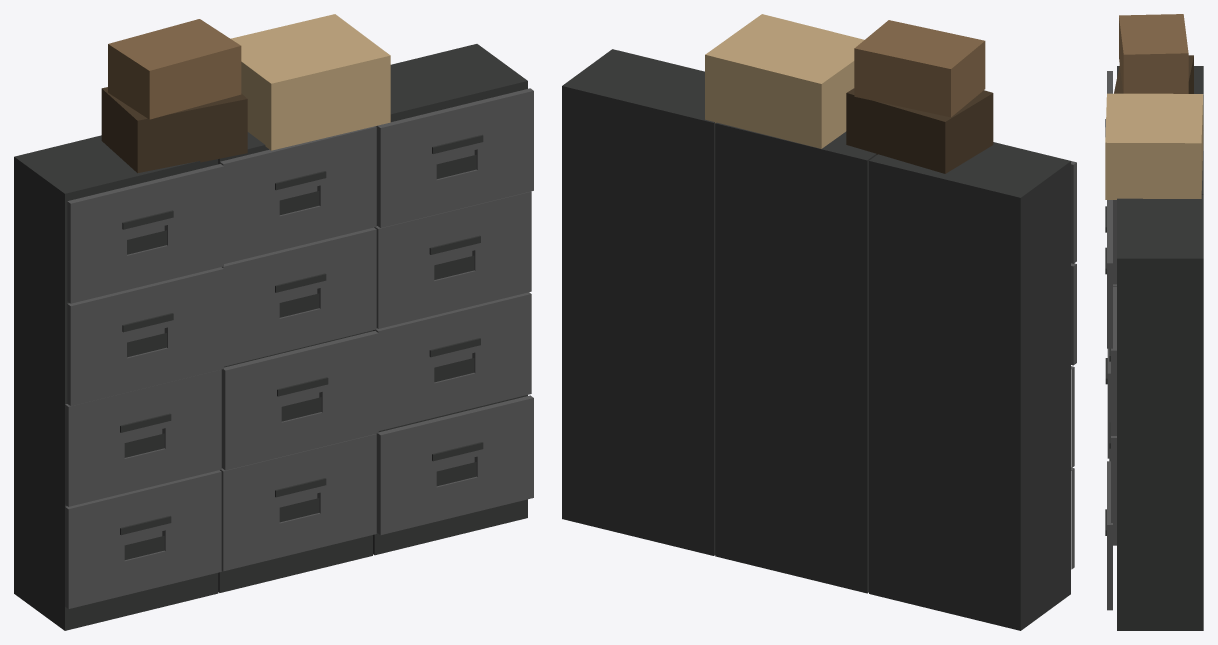
The model's file is FileCabinet.glb.
3 views of the same model, side by side, from view 1: azimuth 30°, elevation 25°; view 2: azimuth 150°, elevation 25°; view 3: azimuth 270°, elevation 25° (orthographic). The views are drawn at different scales.
Parts seen in each view (by area): view 1: fileCabinet; view 2: fileCabinet; view 3: fileCabinet.
Boxes of the visible parts, left/top/right/bottom form: fileCabinet: left=14, top=14, right=533, bottom=630; fileCabinet: left=562, top=14, right=1076, bottom=630; fileCabinet: left=1105, top=14, right=1203, bottom=630.
Bounding box in the file's own units: 2.12 × 2.36 × 0.4583.
Materials: 1 (1 with a texture image).
